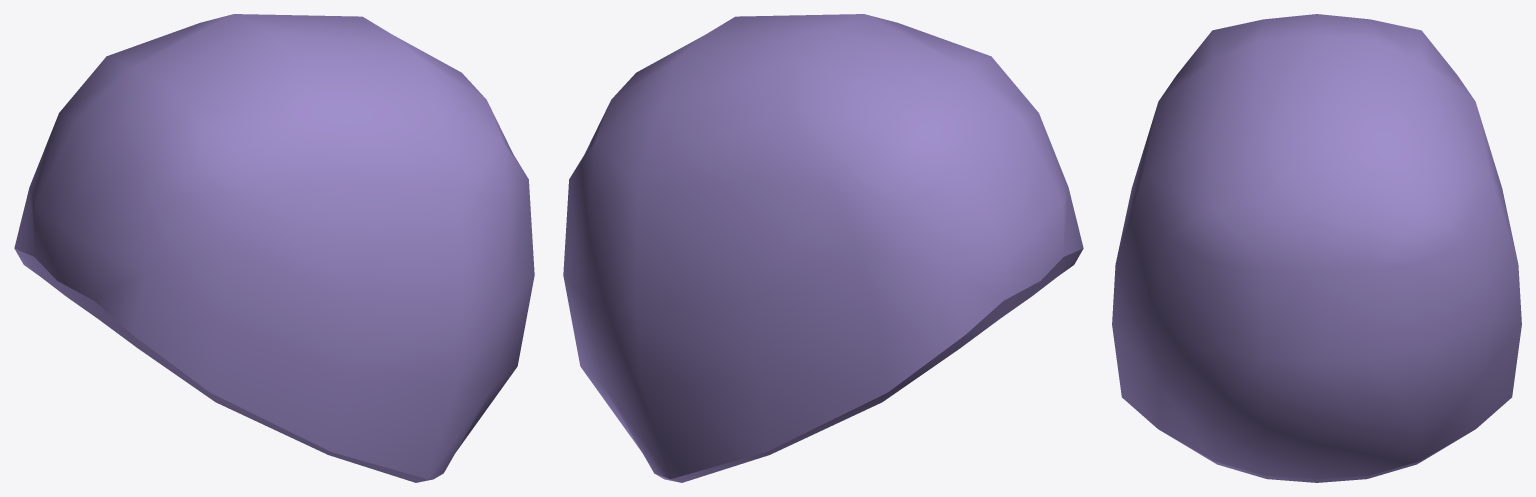
Rendered from D_Turban.fbx.
3 views of the same model, side by side, from view 1: azimuth 30°, elevation 25°; view 2: azimuth 150°, elevation 25°; view 3: azimuth 270°, elevation 25° (orthographic). The views are drawn at different scales.
Parts seen in each view (by area): view 1: D_Turban; view 2: D_Turban; view 3: D_Turban.
Boxes of the visible parts, x1=… form: D_Turban: x1=14, y1=14, x2=534, y2=482; D_Turban: x1=563, y1=14, x2=1083, y2=482; D_Turban: x1=1112, y1=14, x2=1521, y2=482.
Size of the model in its own units: 39.74 by 37.19 by 35.85.
